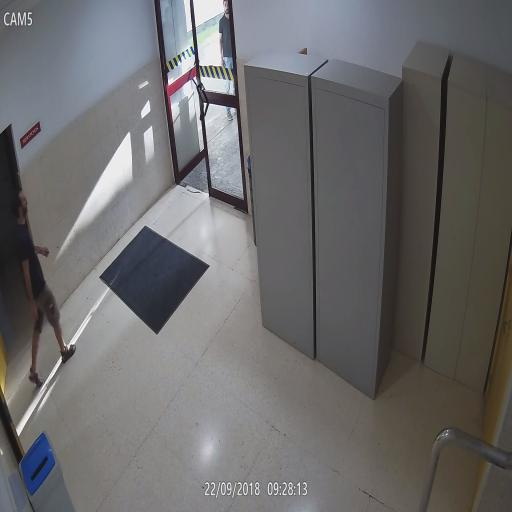Handgun: (30, 300, 44, 336)
